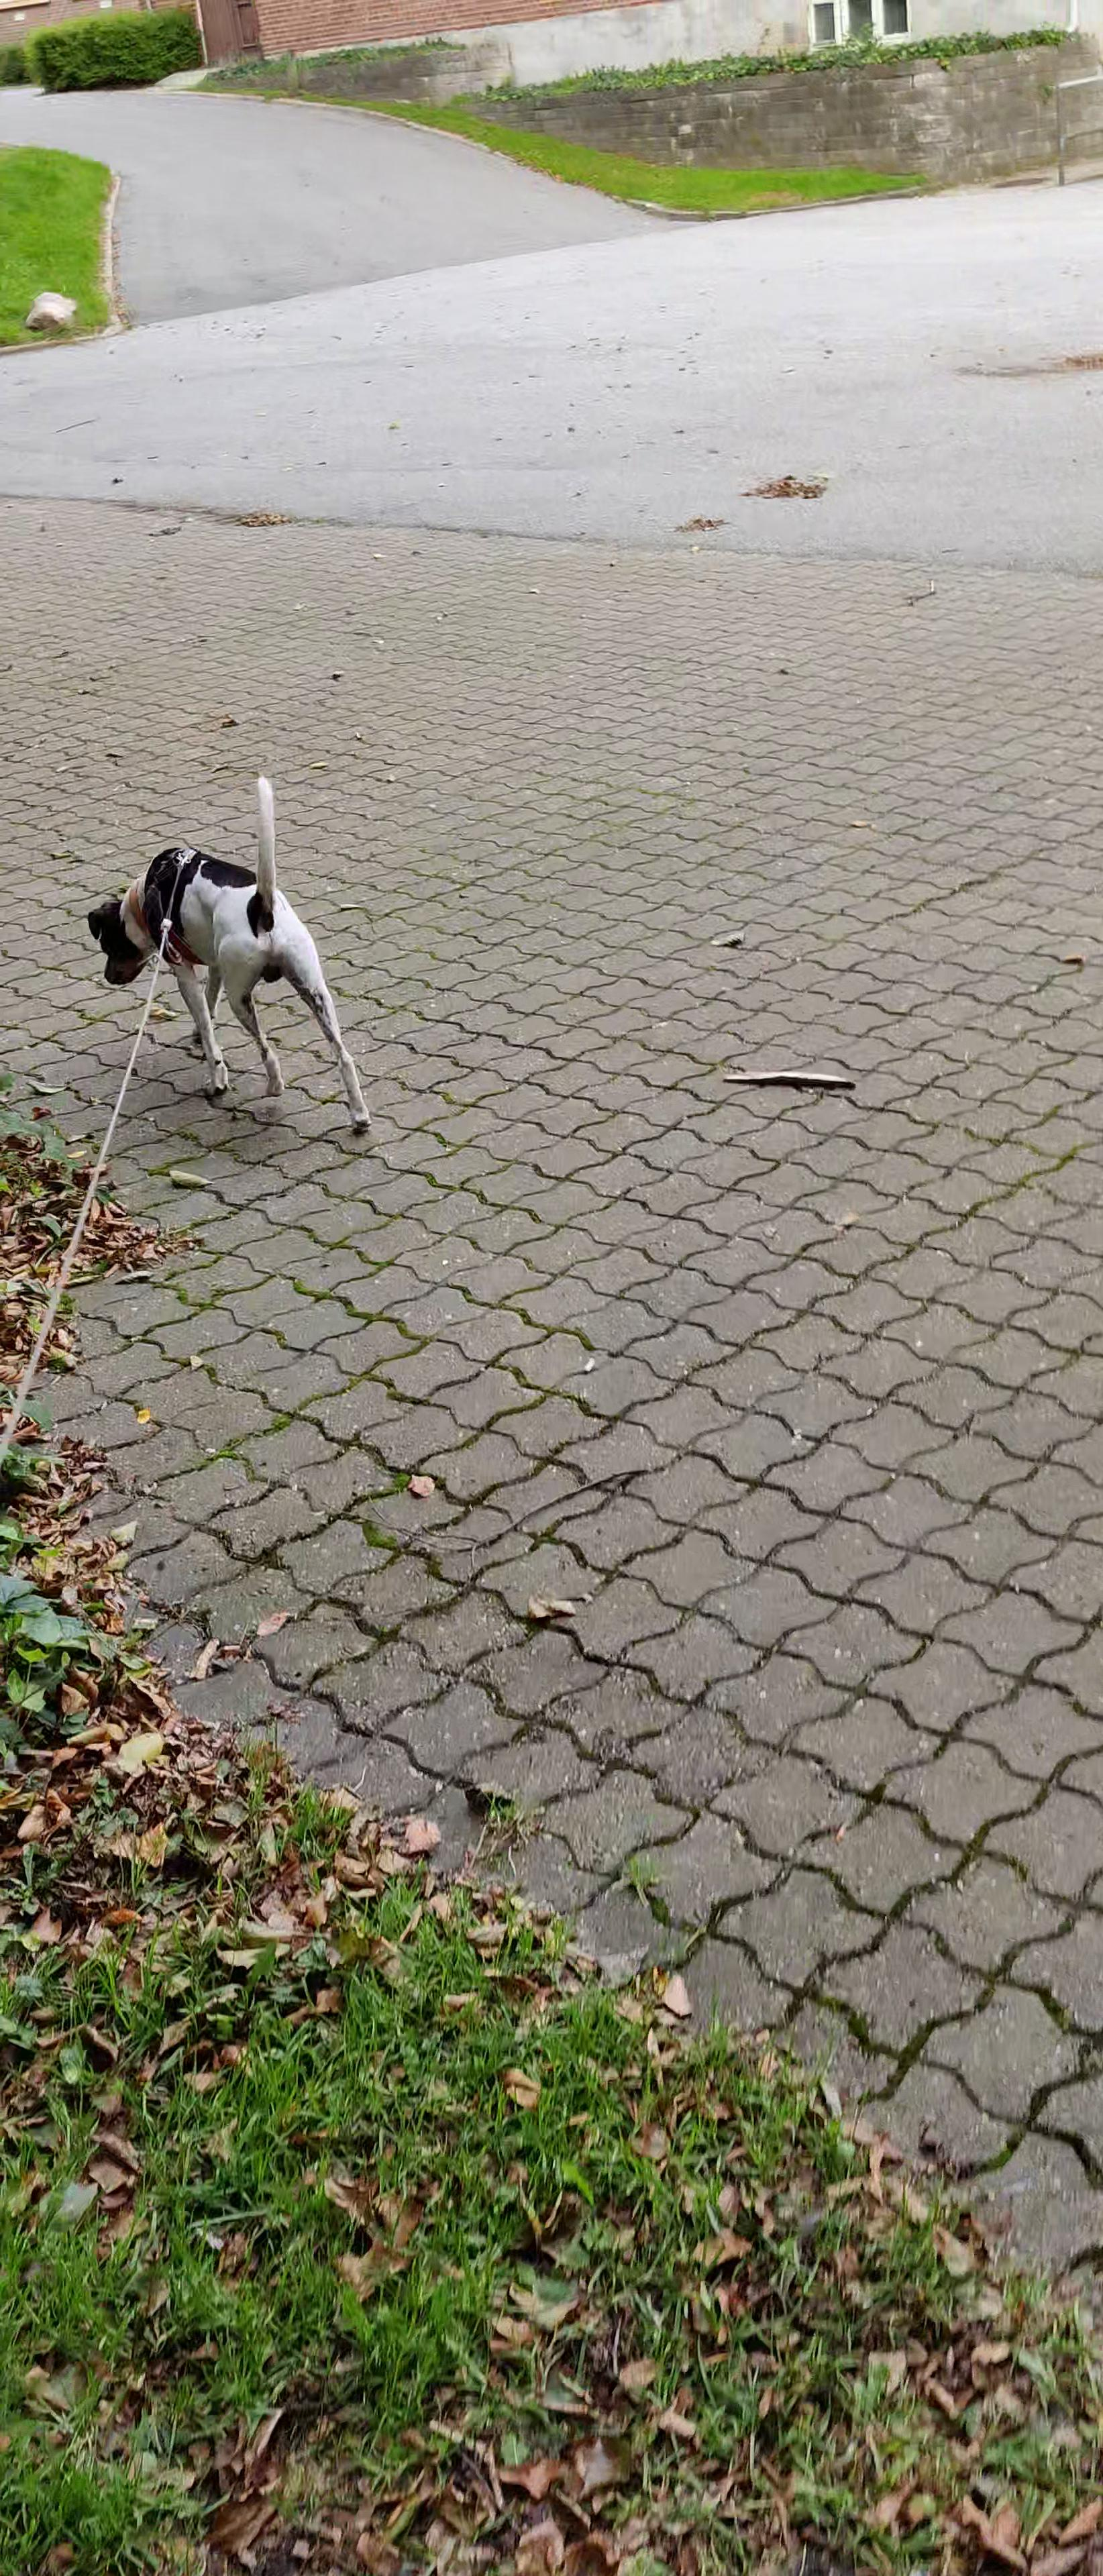Dog: (77, 769, 380, 1150)
